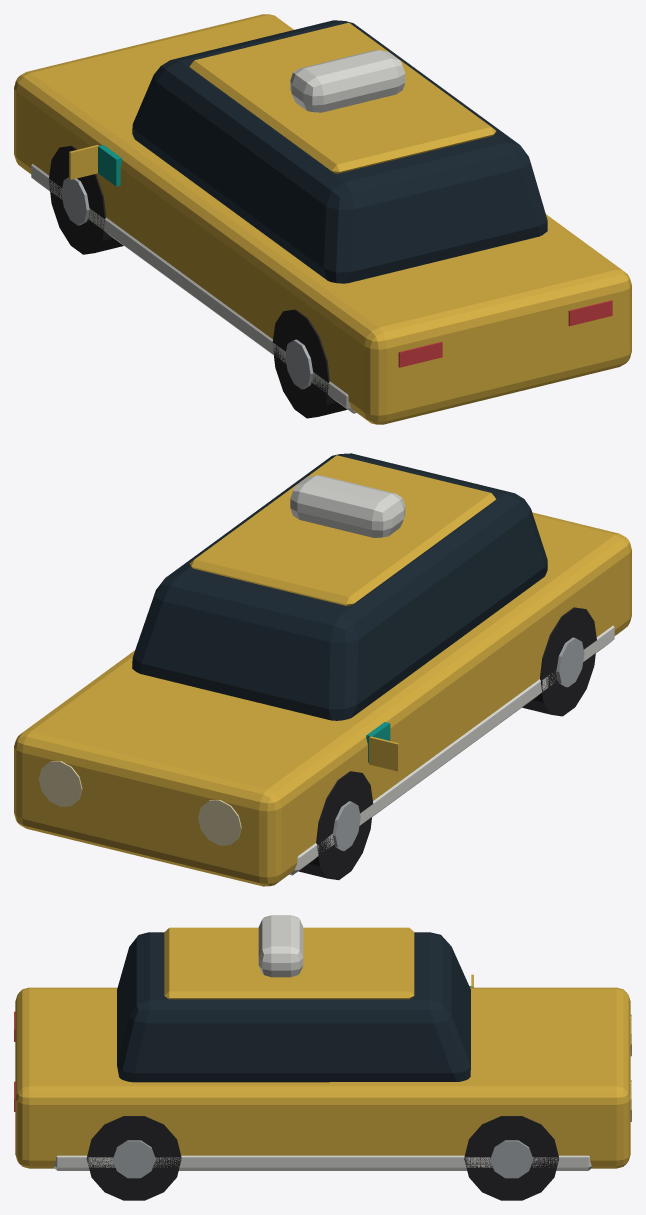
Rendered from taxi.glb.
3 renders of one model, top to bottom at view 1: azimuth 30°, elevation 25°; view 2: azimuth 150°, elevation 25°; view 3: azimuth 270°, elevation 25°, orthographic. The views are drawn at different scales.
Parts seen in each view (by area): view 1: taxi; view 2: taxi; view 3: taxi.
Part boxes in pixels (x1,y1,x2,y2): taxi: (14,14,631,424); taxi: (14,453,631,886); taxi: (14,915,631,1200).
Size of the model in its own units: 2.1 by 1.69 by 4.42.
